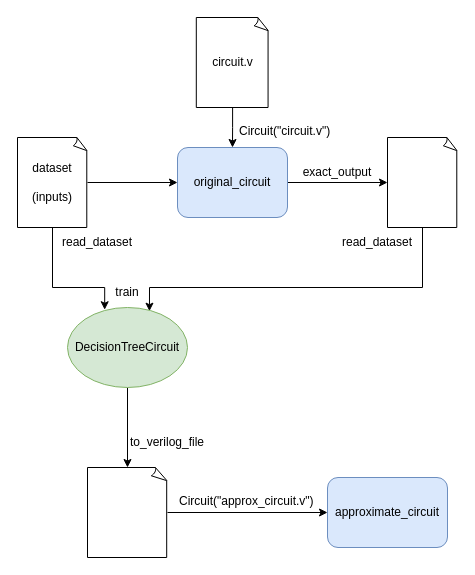
The diagram is 475 pixels wide and 575 high, and some of its shapes have lost their labels. Each missing label, with the centre of its shape:
"approx_circuit.v" goes at point 127,512.
"output.txt (outputs)" goes at point 422,182.
